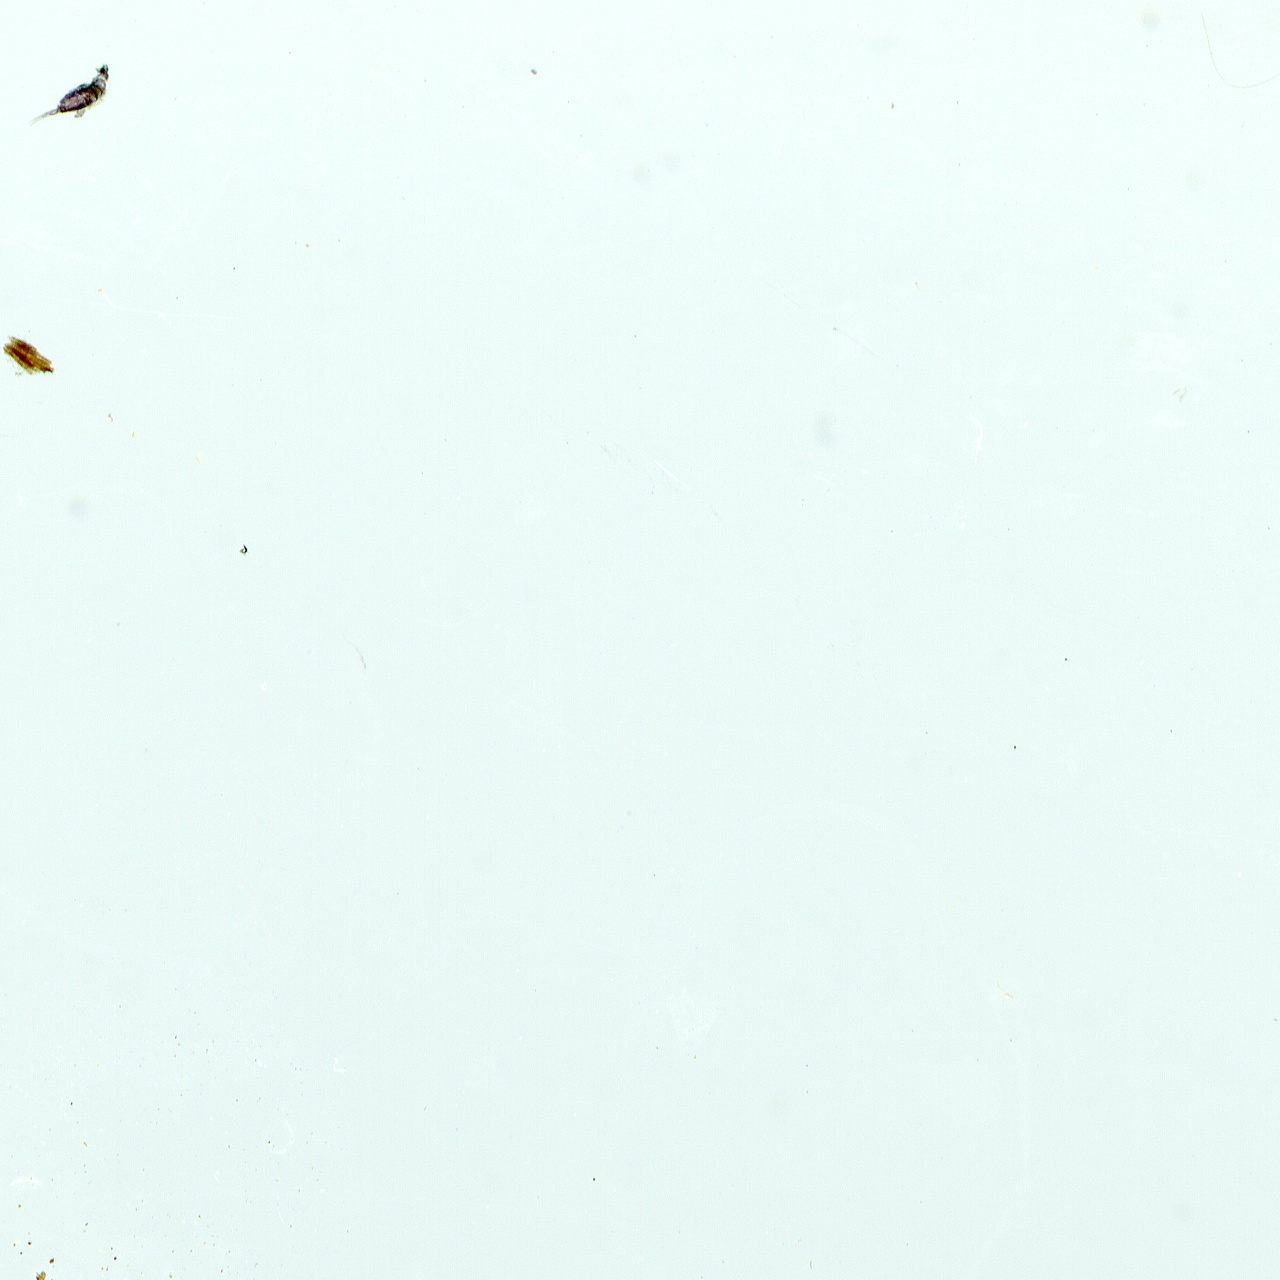arthropod: (16, 43, 129, 160)
